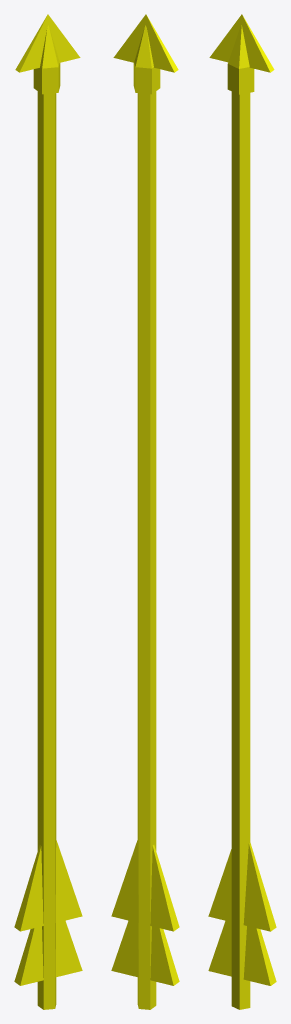
The model's file is _arrow_b_17.glb.
3 renders of one model, left to right at view 1: azimuth 30°, elevation 25°; view 2: azimuth 150°, elevation 25°; view 3: azimuth 330°, elevation 25°, orthographic.
Parts seen in each view (by area): view 1: arrow_b_17; view 2: arrow_b_17; view 3: arrow_b_17.
Part boxes in pixels (left/top/right/bottom): arrow_b_17: left=14, top=14, right=82, bottom=1009; arrow_b_17: left=111, top=14, right=179, bottom=1009; arrow_b_17: left=208, top=14, right=276, bottom=1009.
Size of the model in its own units: 0.0379 by 0.5765 by 0.0143.
Materials: 1 (1 with a texture image).
